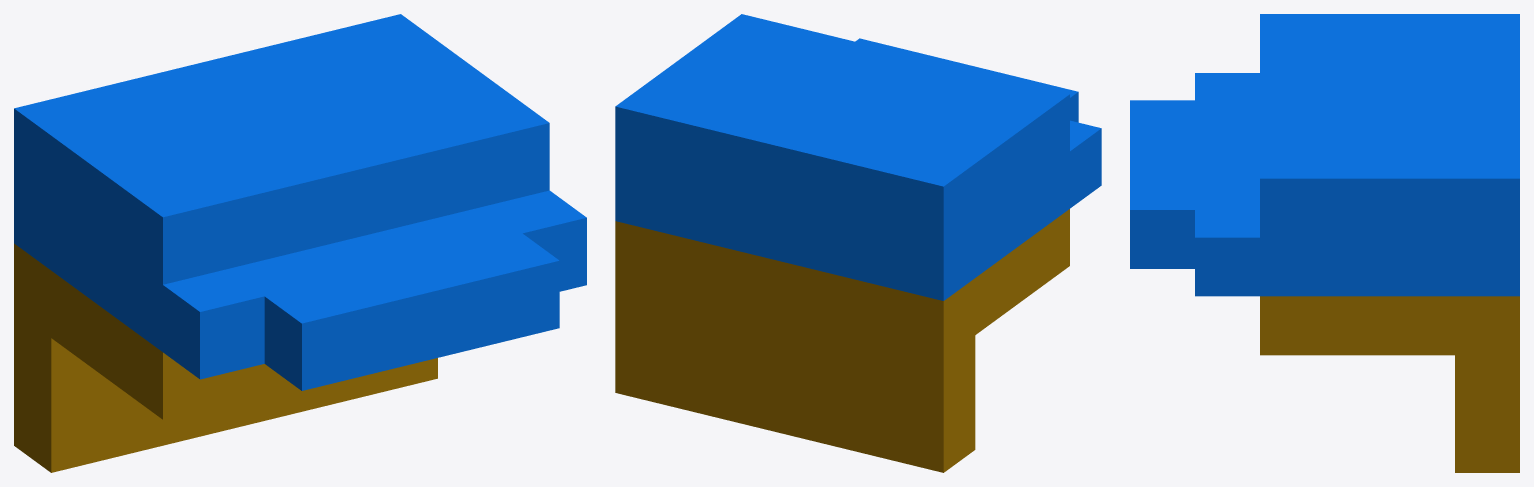
The model's file is ModSmith-1.obj.
3 views of the same model, side by side, from view 1: azimuth 30°, elevation 25°; view 2: azimuth 150°, elevation 25°; view 3: azimuth 270°, elevation 25° (orthographic). The views are drawn at different scales.
Size of the model in its own units: 0.6 by 0.5 by 0.6.
1 material, 1 textured.
